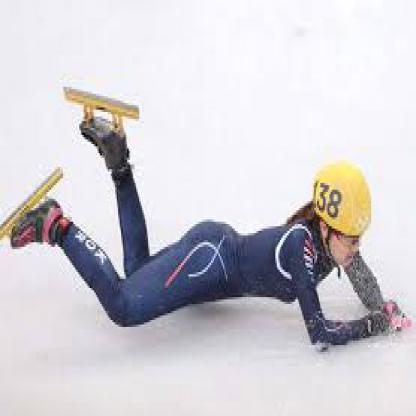Fall_Down: (10, 113, 410, 348)
